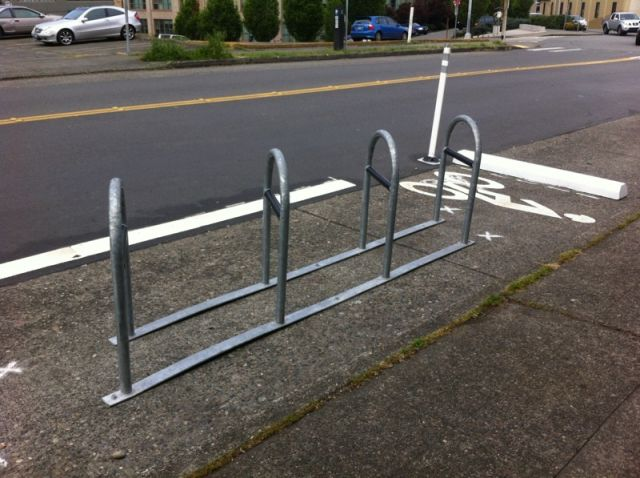Car: (35, 4, 143, 47)
